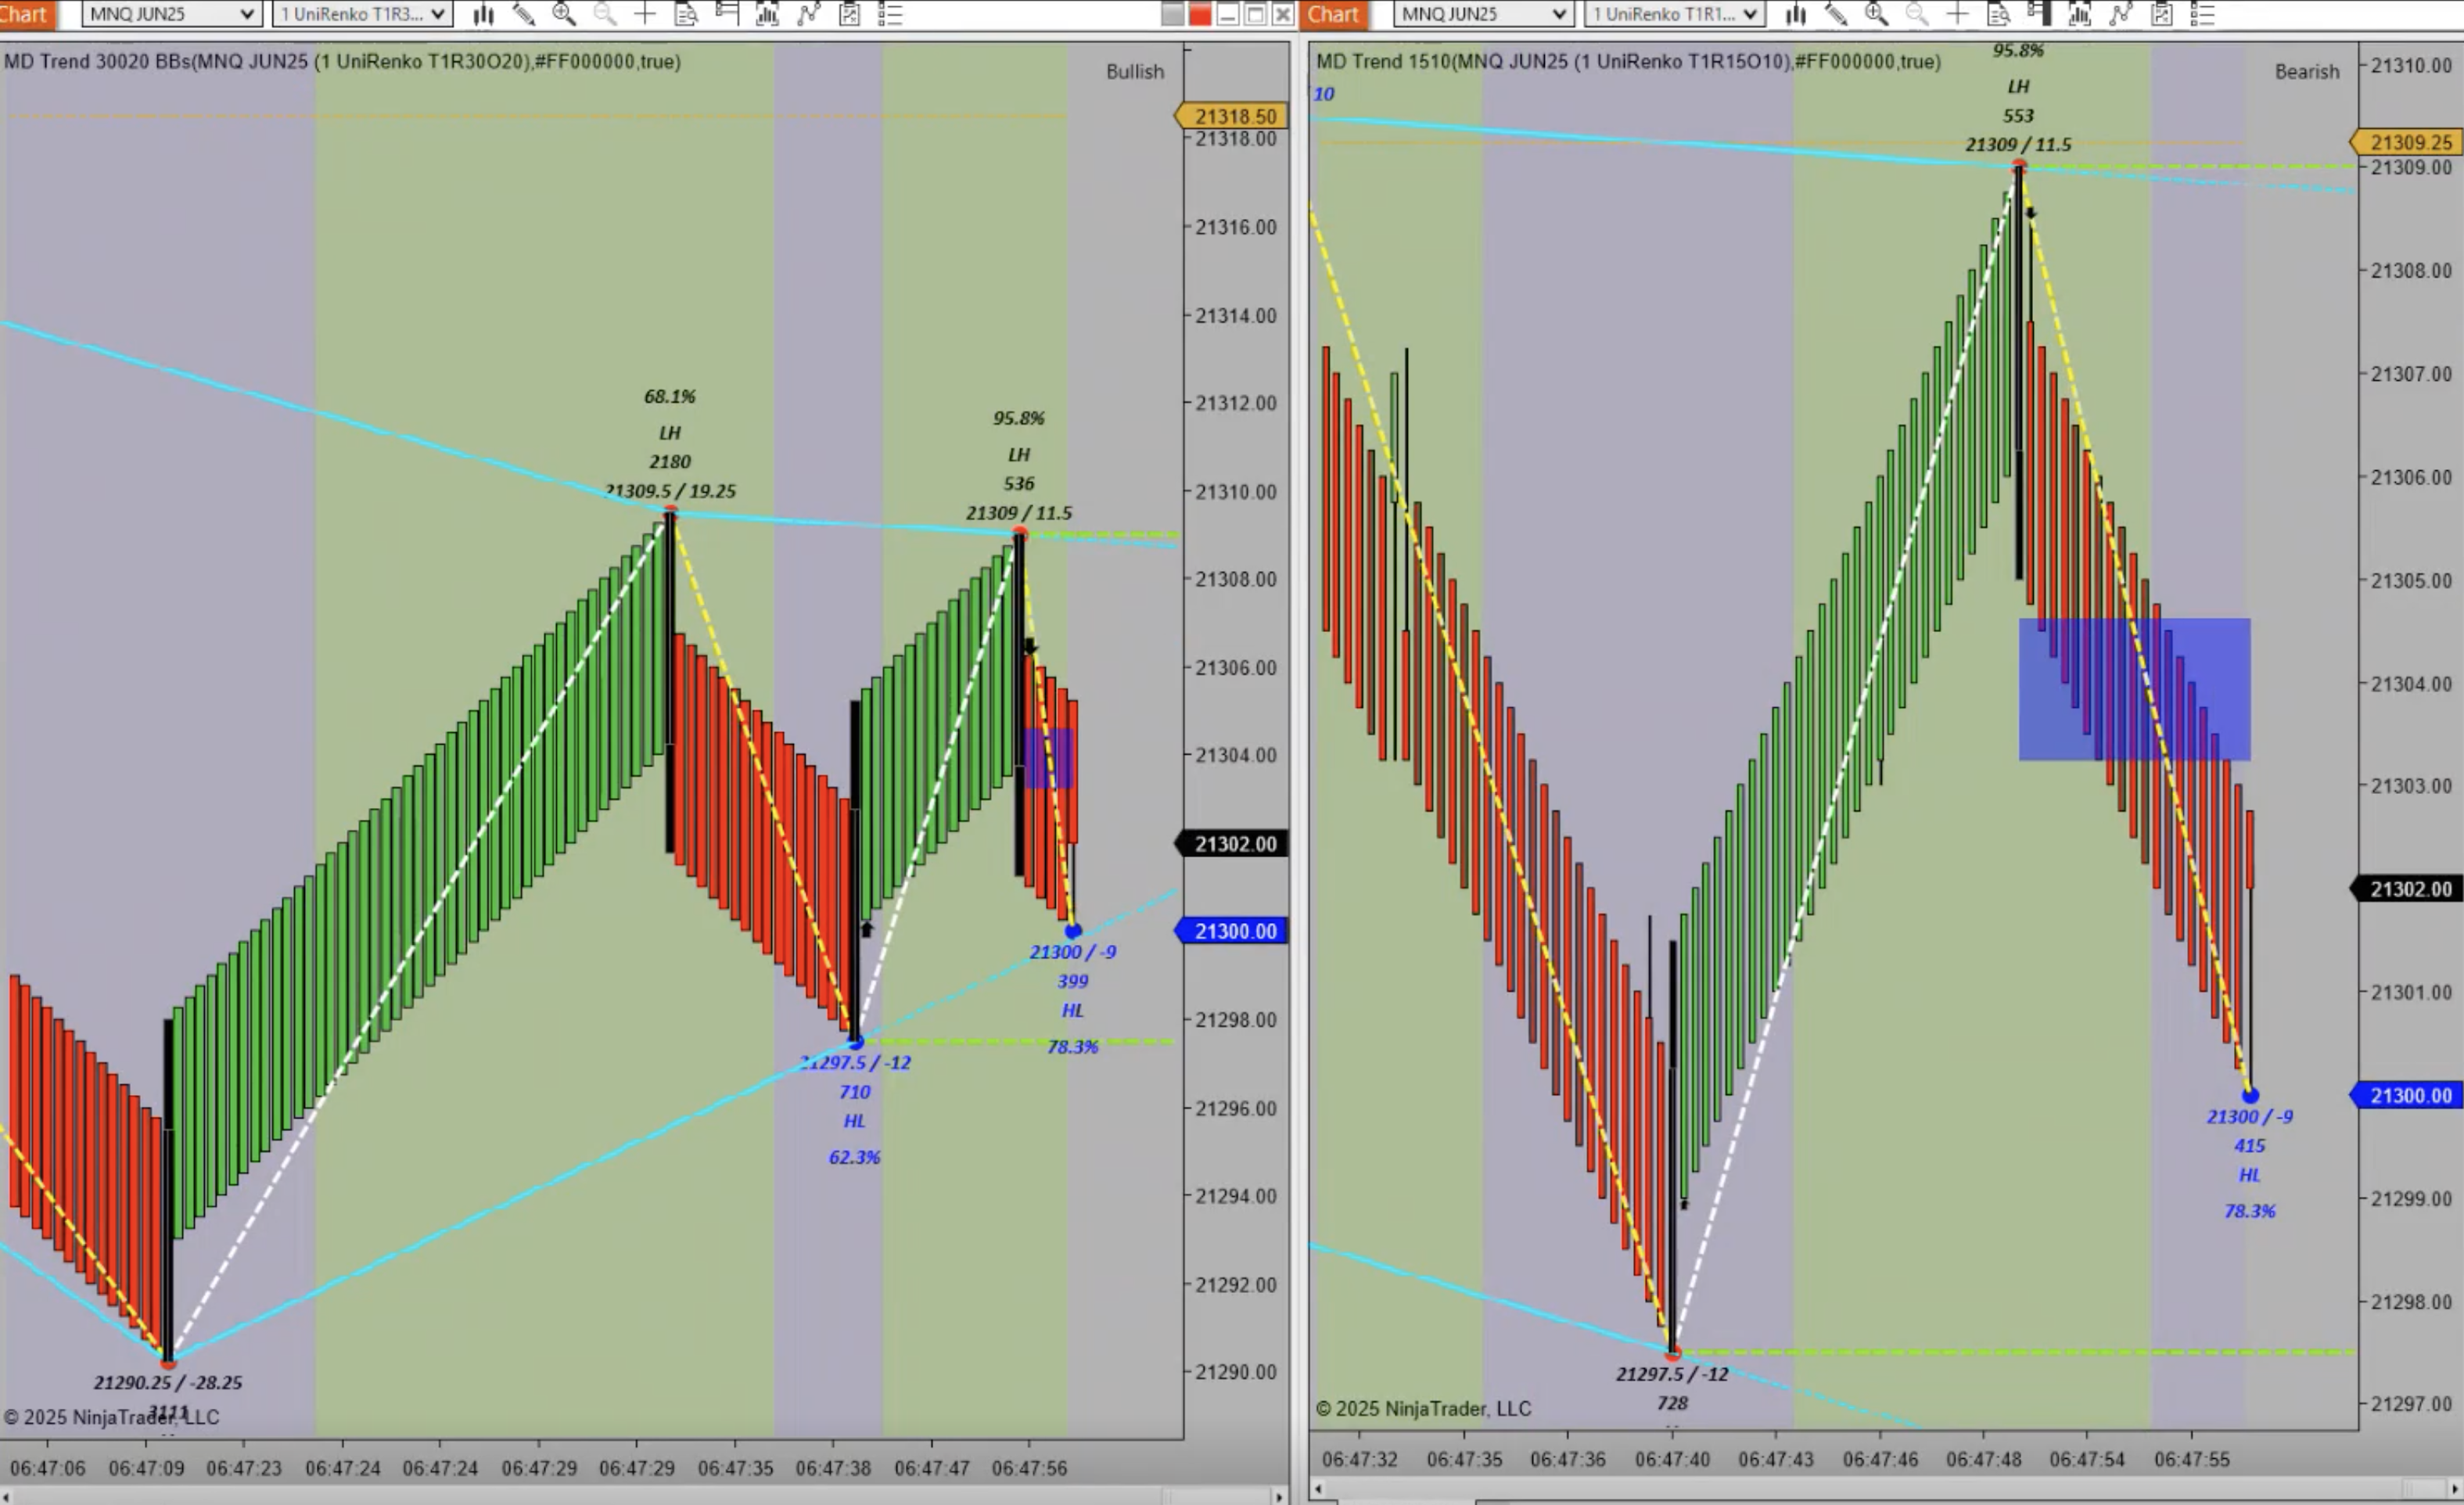candle: (2015, 165, 2031, 591), (1668, 942, 1683, 1355), (160, 1019, 176, 1361), (1014, 533, 1028, 884), (852, 702, 866, 1042), (664, 507, 674, 864)
